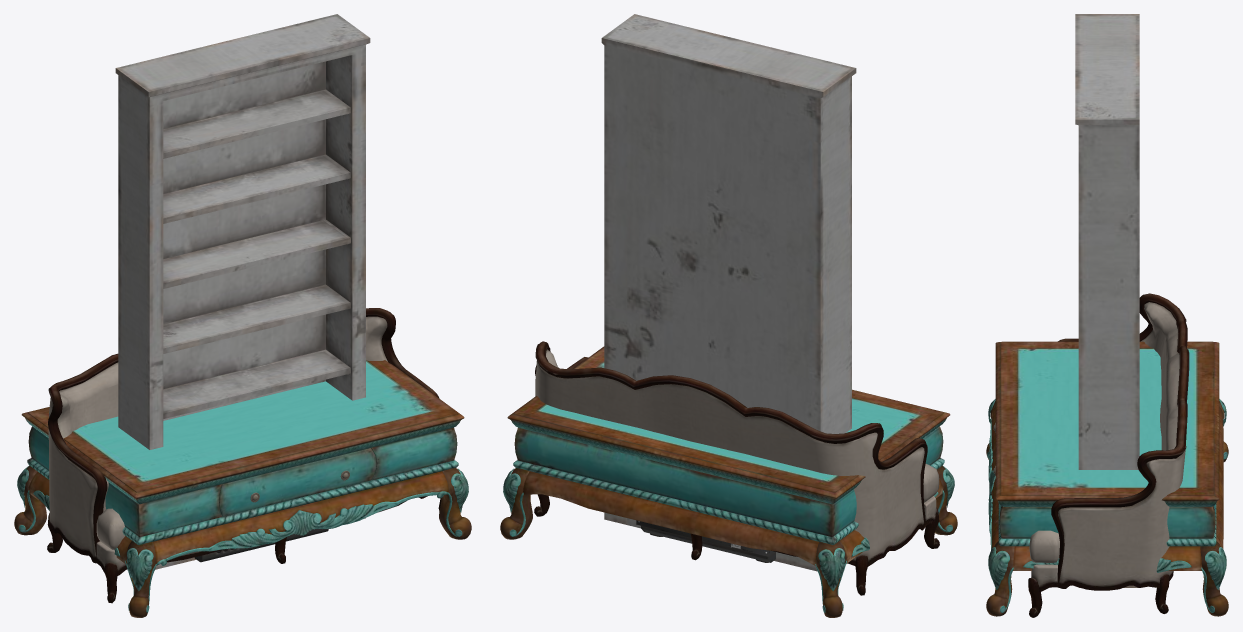
Rendered from furniture_kit.glb.
The picture shows the model from 3 angles, left to right: view 1: azimuth 30°, elevation 25°; view 2: azimuth 150°, elevation 25°; view 3: azimuth 270°, elevation 25°; orthographic projection. The views are drawn at different scales.
Visible parts, largest first — view 1: ph_shelf, ph_coffee, ph_sofa, ph_tv; view 2: ph_shelf, ph_coffee, ph_sofa, ph_tv; view 3: ph_coffee, ph_shelf, ph_sofa.
Boxes of the visible parts, x1,y1,x2,y2 form: ph_shelf: [115, 14, 370, 569]; ph_coffee: [14, 360, 471, 617]; ph_sofa: [47, 308, 441, 603]; ph_tv: [194, 529, 328, 562]; ph_shelf: [601, 14, 856, 571]; ph_coffee: [500, 346, 957, 617]; ph_sofa: [534, 341, 939, 595]; ph_tv: [636, 520, 775, 562]; ph_coffee: [986, 341, 1228, 616]; ph_shelf: [1075, 14, 1139, 587]; ph_sofa: [1028, 293, 1189, 617].
Bounding box in the file's own units: 1.57 × 2.08 × 0.9728.
16 materials, 4 textured.
